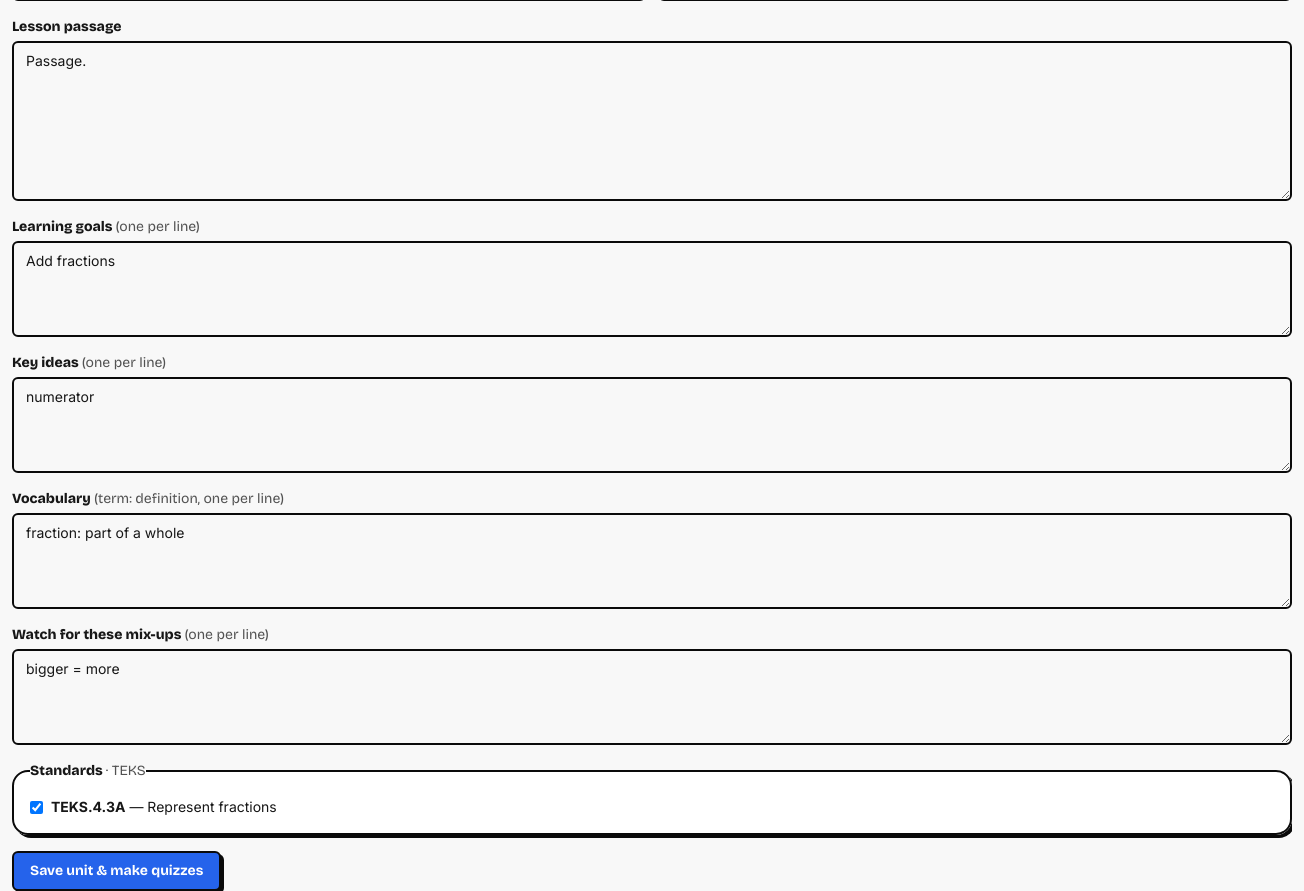
it: LessonReviewEditor › multi-day done state shows "quizzes are being built"
The image size is (1304, 891).
(page scrolled)
Click the button "Save unit & make quizzes".
click(117, 870)  # box [12,850,221,890]
(page scrolled)
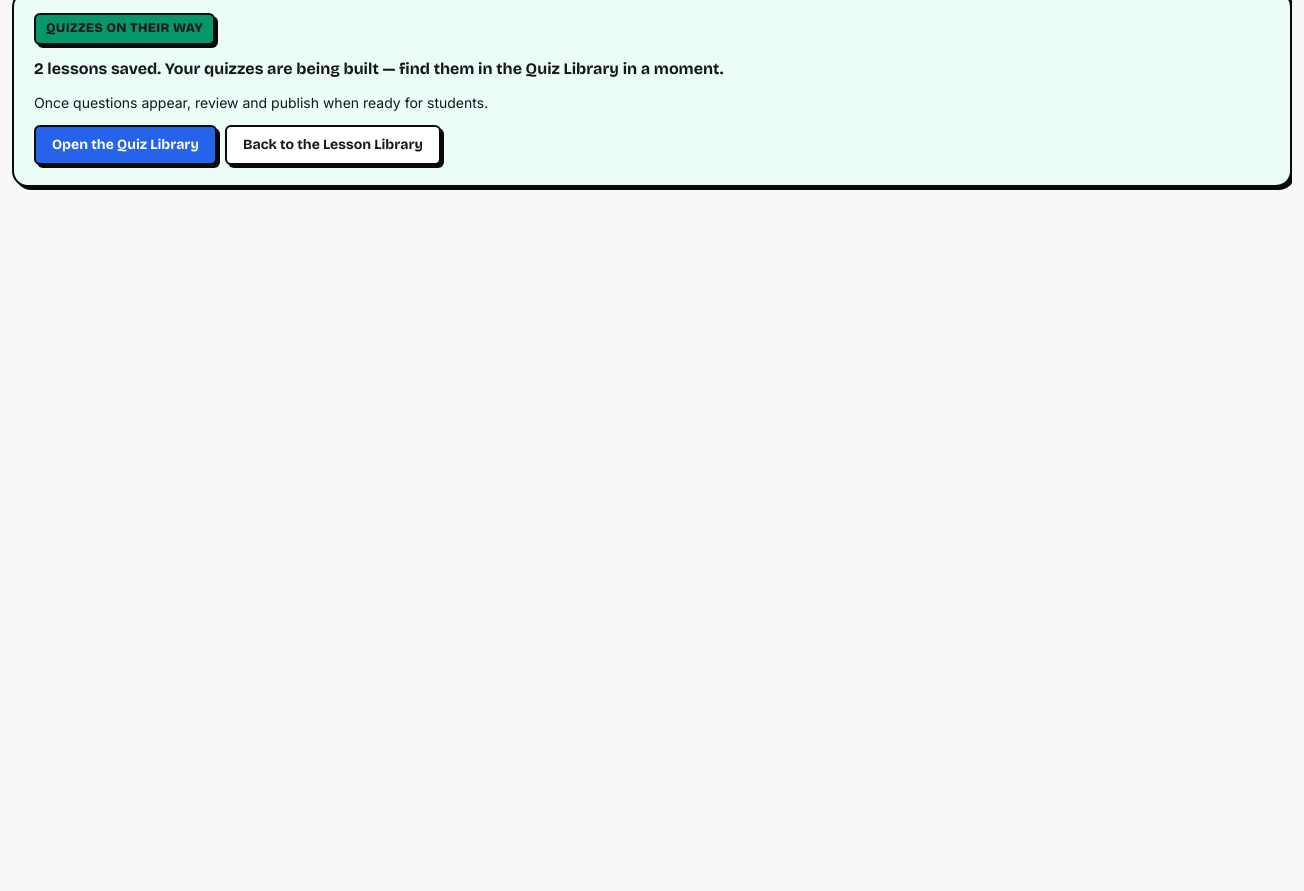
Now the link "Open the Quiz Library" is shown, box [34,124,217,164]
Now the text "quizzes are being built" is shown, box [34,58,723,78]
